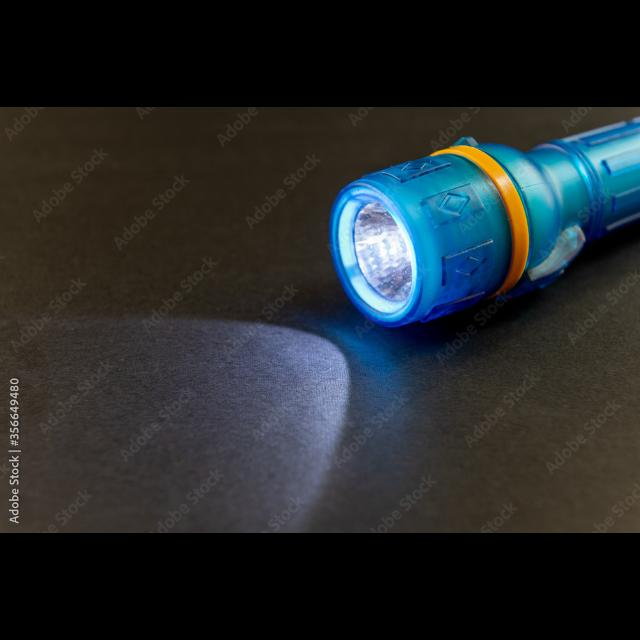Flashlight: (314, 107, 640, 339)
